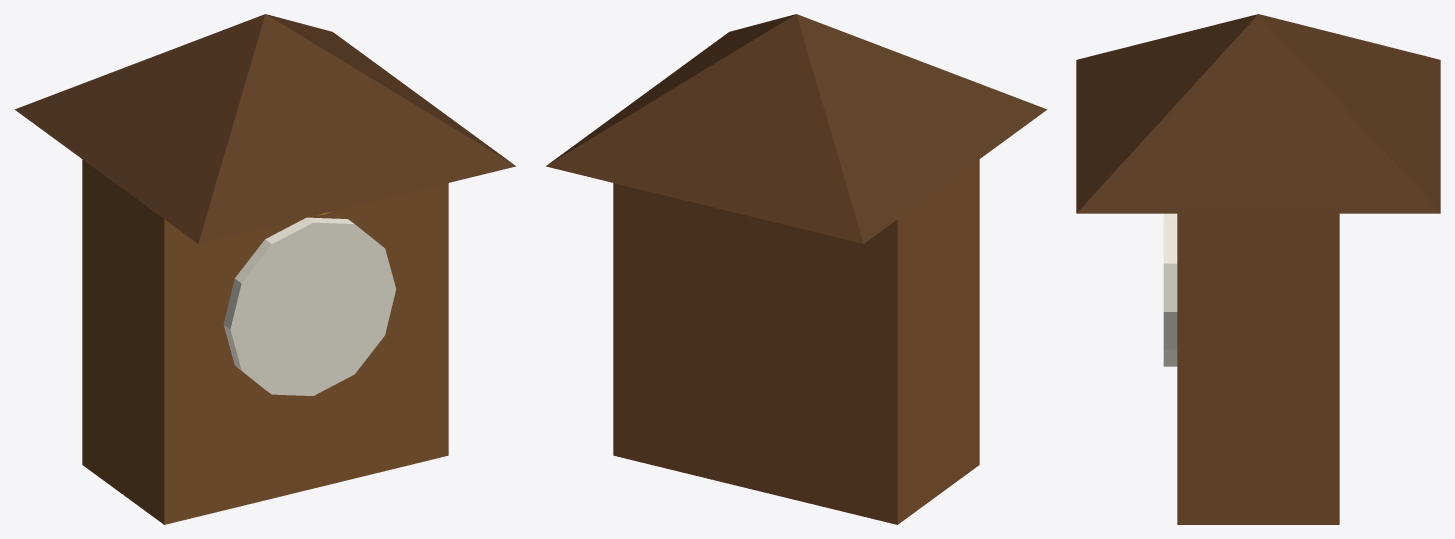
The model's file is pawn_clock.glb.
3 renders of one model, left to right at view 1: azimuth 30°, elevation 25°; view 2: azimuth 150°, elevation 25°; view 3: azimuth 270°, elevation 25°, orthographic.
Parts seen in each view (by area): view 1: house_pawn_clock_wood, roof_pawn_clock_roof, face_pawn_clock_face; view 2: house_pawn_clock_wood, roof_pawn_clock_roof; view 3: roof_pawn_clock_roof, house_pawn_clock_wood, face_pawn_clock_face.
Boxes of the visible parts, <box> form: house_pawn_clock_wood: <box>82,159,448,524</box>; roof_pawn_clock_roof: <box>15,14,515,243</box>; face_pawn_clock_face: <box>223,217,396,395</box>; house_pawn_clock_wood: <box>613,159,979,524</box>; roof_pawn_clock_roof: <box>546,14,1046,243</box>; roof_pawn_clock_roof: <box>1076,14,1440,213</box>; house_pawn_clock_wood: <box>1177,213,1339,524</box>; face_pawn_clock_face: <box>1163,213,1177,366</box>.
Bounding box in the file's own units: 0.2687 × 0.36 × 0.2687.
